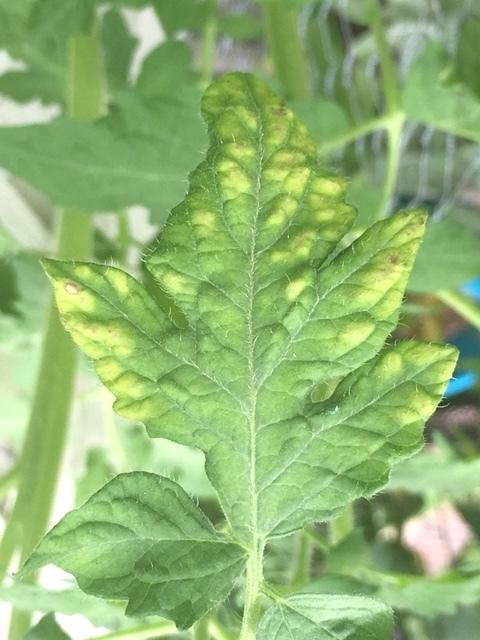Tomato leaf bacterial spot: (48, 46, 454, 567)
